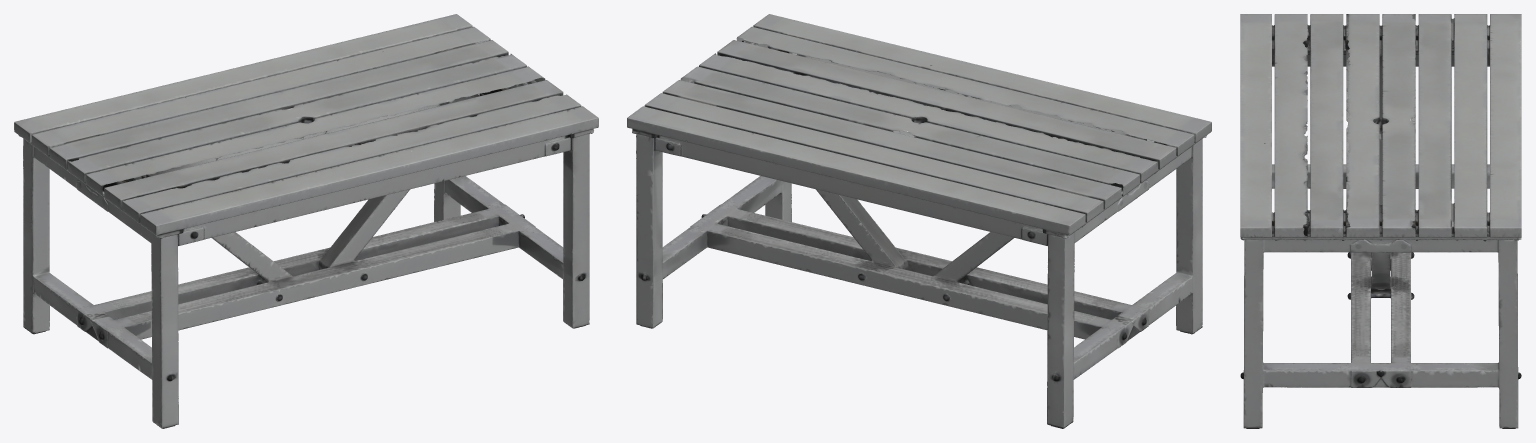
Rendered from Meshy_AI_RP_1500x900_Table_Mai_0324201644_texture.glb.
The picture shows the model from 3 angles, left to right: view 1: azimuth 30°, elevation 25°; view 2: azimuth 150°, elevation 25°; view 3: azimuth 270°, elevation 25°; orthographic projection.
Visible parts, largest first — view 1: Mesh_0.001; view 2: Mesh_0.001; view 3: Mesh_0.001.
Part boxes in pixels (left/top/right/bottom): Mesh_0.001: left=14, top=14, right=598, bottom=428; Mesh_0.001: left=627, top=14, right=1211, bottom=428; Mesh_0.001: left=1240, top=14, right=1521, bottom=428.
Bounding box in the file's own units: 16.48 × 7.4 × 9.16.
Materials: 1 (1 with a texture image).
